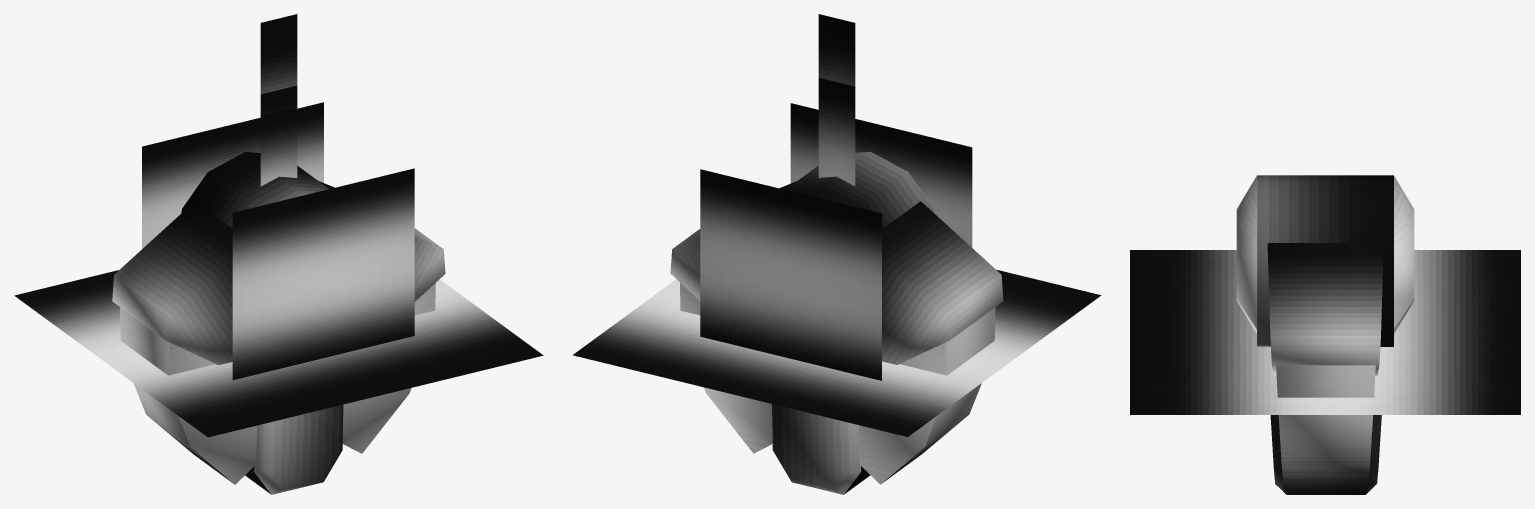
The model's file is datan_common_A_allinone_62ce47d4.obj.
3 views of the same model, side by side, from view 1: azimuth 30°, elevation 25°; view 2: azimuth 150°, elevation 25°; view 3: azimuth 270°, elevation 25° (orthographic).
Parts seen in each view (by area): view 1: datan_common_A_allinone_62ce47d4_mesh00, datan_common_A_allinone_62ce47d4_mesh01, datan_common_A_allinone_62ce47d4_mesh04, datan_common_A_allinone_62ce47d4_mesh03, datan_common_A_allinone_62ce47d4_mesh05, datan_common_A_allinone_62ce47d4_mesh07, datan_common_A_allinone_62ce47d4_mesh11; view 2: datan_common_A_allinone_62ce47d4_mesh00, datan_common_A_allinone_62ce47d4_mesh03, datan_common_A_allinone_62ce47d4_mesh04, datan_common_A_allinone_62ce47d4_mesh01, datan_common_A_allinone_62ce47d4_mesh09, datan_common_A_allinone_62ce47d4_mesh10; view 3: datan_common_A_allinone_62ce47d4_mesh04, datan_common_A_allinone_62ce47d4_mesh00.
Boxes of the visible parts, x1,y1,x2,y2 form: datan_common_A_allinone_62ce47d4_mesh00: (112,152,445,494); datan_common_A_allinone_62ce47d4_mesh01: (232,168,414,380); datan_common_A_allinone_62ce47d4_mesh04: (14,270,543,437); datan_common_A_allinone_62ce47d4_mesh03: (142,102,323,248); datan_common_A_allinone_62ce47d4_mesh05: (260,107,297,186); datan_common_A_allinone_62ce47d4_mesh07: (260,29,297,94); datan_common_A_allinone_62ce47d4_mesh11: (260,87,297,115); datan_common_A_allinone_62ce47d4_mesh00: (670,151,1003,494); datan_common_A_allinone_62ce47d4_mesh03: (700,169,881,380); datan_common_A_allinone_62ce47d4_mesh04: (573,269,1100,436); datan_common_A_allinone_62ce47d4_mesh01: (790,103,972,247); datan_common_A_allinone_62ce47d4_mesh09: (818,78,855,185); datan_common_A_allinone_62ce47d4_mesh10: (818,22,855,86); datan_common_A_allinone_62ce47d4_mesh04: (1130,250,1520,414); datan_common_A_allinone_62ce47d4_mesh00: (1236,175,1414,494).
Size of the model in its own units: 2.8 by 3.63 by 2.8.
1 material, 1 textured.
